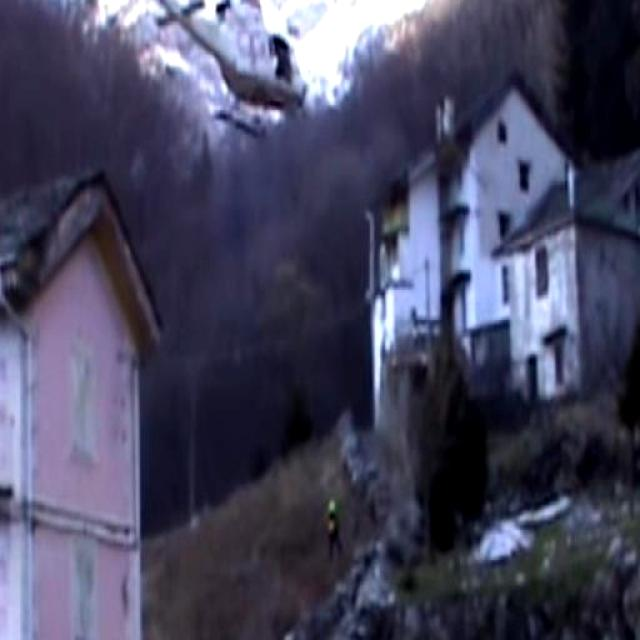drone: (134, 0, 311, 142)
